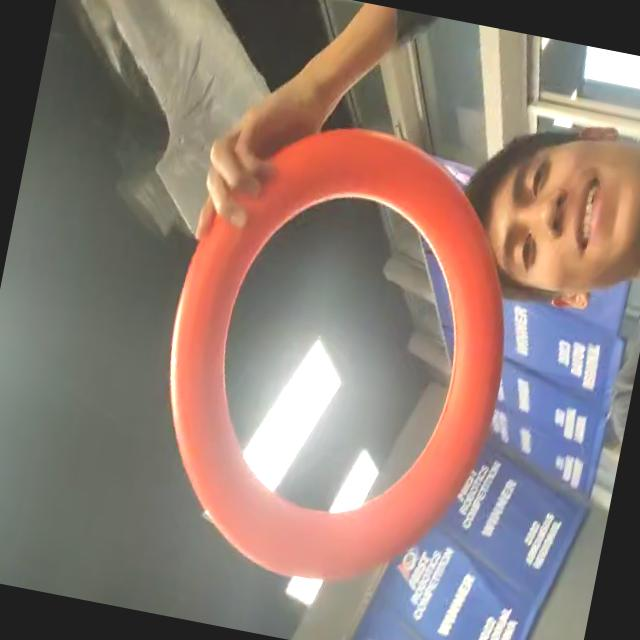note: (126, 96, 546, 610)
